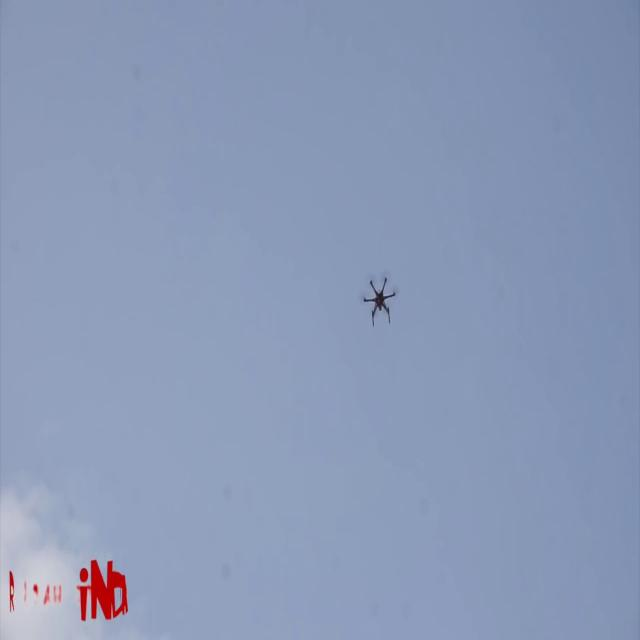drone: (356, 266, 408, 338)
